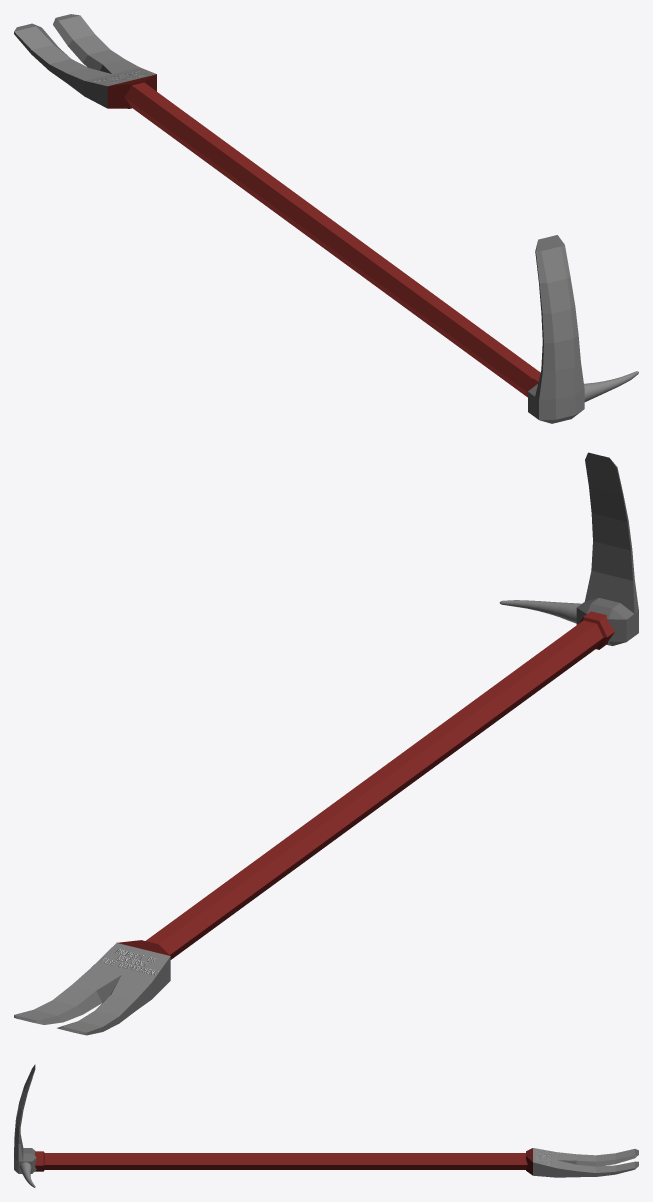
File: WorldItem_HalliganBar.fbx
3 views of the same model, one above another, from view 1: azimuth 30°, elevation 25°; view 2: azimuth 150°, elevation 25°; view 3: azimuth 270°, elevation 25° (orthographic). The views are drawn at different scales.
Parts seen in each view (by area): view 1: ZomboidHalliganBar; view 2: ZomboidHalliganBar; view 3: ZomboidHalliganBar.
Part boxes in pixels (bbox=[...]): ZomboidHalliganBar: bbox=[14, 14, 638, 423]; ZomboidHalliganBar: bbox=[14, 452, 638, 1035]; ZomboidHalliganBar: bbox=[14, 1064, 638, 1187].
Size of the model in its own units: 0.098 by 0.1316 by 0.7152.
